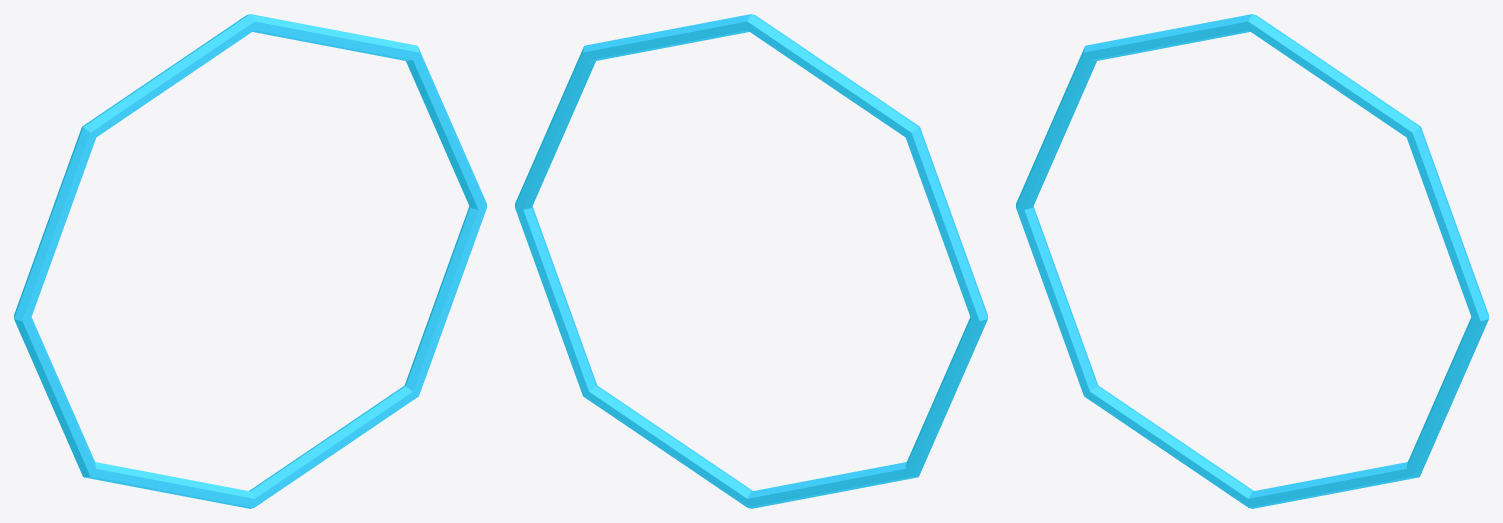
File: hazard_collider_ring.glb
3 renders of one model, left to right at view 1: azimuth 30°, elevation 25°; view 2: azimuth 150°, elevation 25°; view 3: azimuth 330°, elevation 25°, orthographic.
Visible parts, largest first — view 1: Torus; view 2: Torus; view 3: Torus.
Part boxes in pixels (x1,y1,x2,y2): Torus: [14, 14, 486, 508]; Torus: [515, 14, 987, 508]; Torus: [1016, 14, 1488, 508].
Bounding box in the file's own units: 19.7 × 19.7 × 0.6062.
